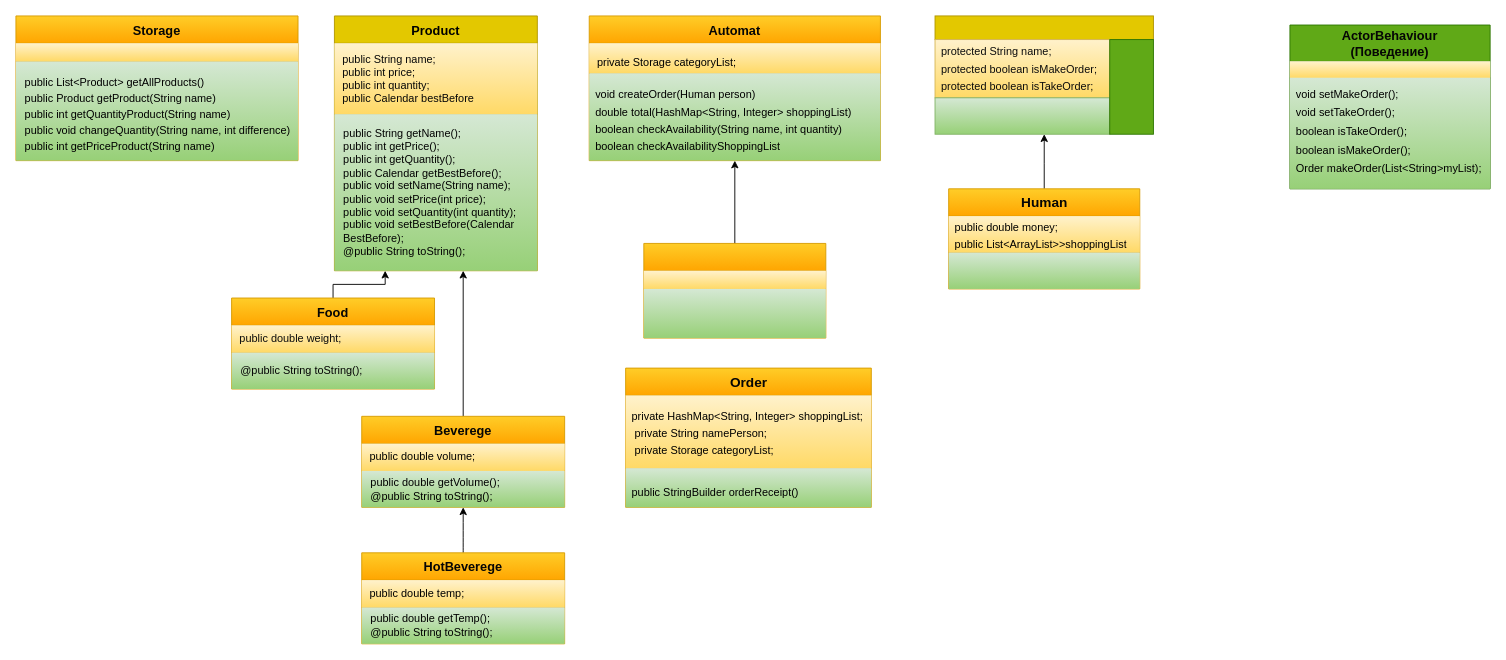
Image size: 1506x660. Some labels were removed from this diagram. The centre of each missing label's shape, as x and y in pixels:
"abstract String getName();" belongs at point 1022,115.
"Actor" belongs at point 1043,27.
"ActorBehaviour" belongs at point 1131,86.
"HotBeverageAutomat" belongs at point 734,290.
